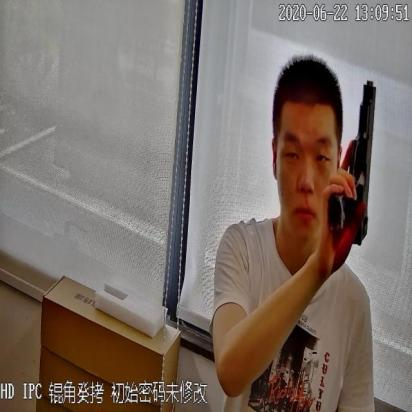Gun: (328, 74, 376, 249)
